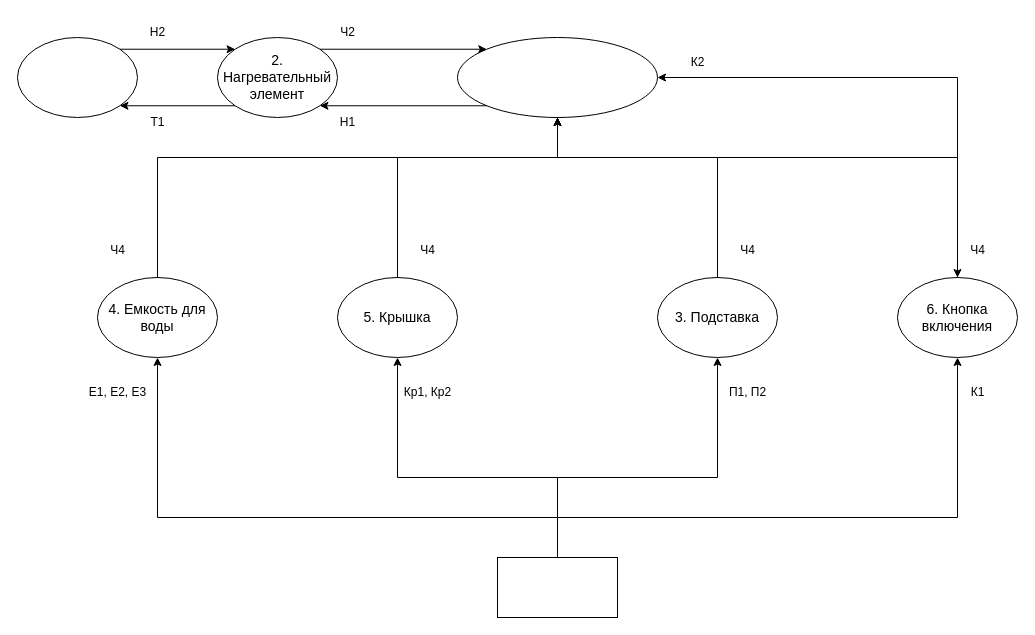
This 1035x635 diagram has some shape labels left out. Here are the shapes that lost their labels. From the top down, the centre of each, then its label:
point 77,77: 7. Термостат
point 557,77: 1. Чайник
point 557,587: Пользователь
